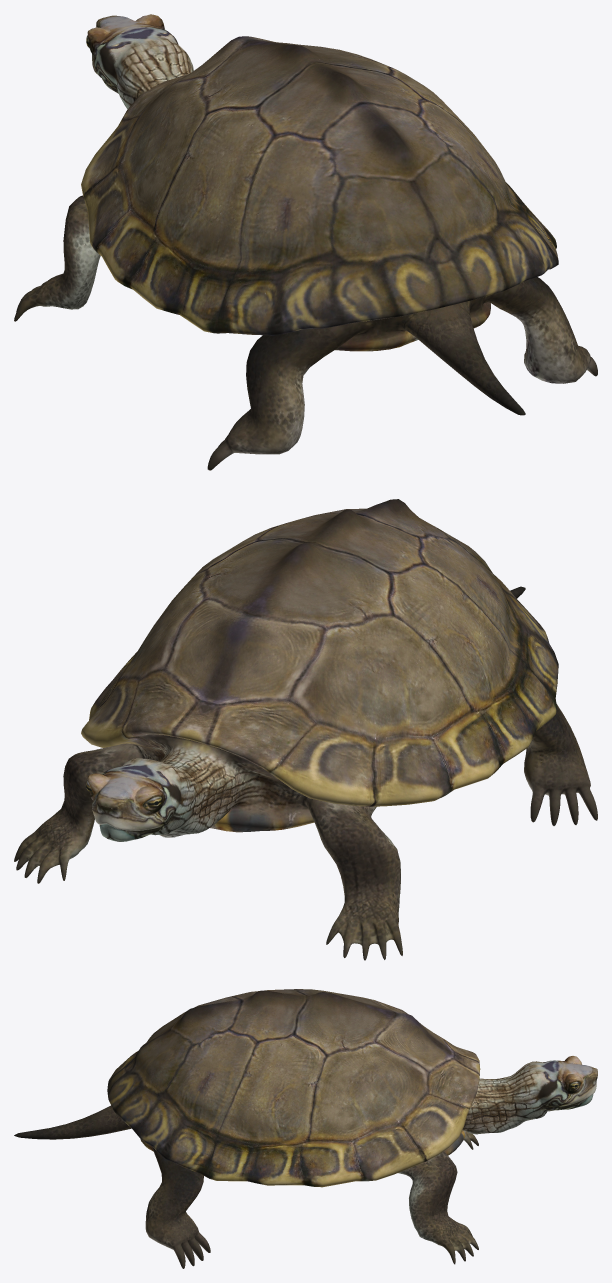
The model's file is siege_turtle.obj.
3 views of the same model, one above another, from view 1: azimuth 30°, elevation 25°; view 2: azimuth 150°, elevation 25°; view 3: azimuth 270°, elevation 25° (orthographic). The views are drawn at different scales.
Visible parts, largest first — view 1: siege_turtle, siege_turtle.005, siege_turtle.004, siege_turtle.002; view 2: siege_turtle, siege_turtle.002, siege_turtle.003, siege_turtle.005; view 3: siege_turtle, siege_turtle.004, siege_turtle.003.
Boxes of the visible parts, <box> form: siege_turtle: <box>81,14,558,415</box>; siege_turtle.005: <box>207,328,340,470</box>; siege_turtle.004: <box>500,277,597,383</box>; siege_turtle.002: <box>14,195,100,321</box>; siege_turtle: <box>81,499,558,841</box>; siege_turtle.002: <box>308,799,402,960</box>; siege_turtle.003: <box>14,745,134,883</box>; siege_turtle.005: <box>524,704,597,825</box>; siege_turtle: <box>14,989,597,1187</box>; siege_turtle.004: <box>145,1146,210,1268</box>; siege_turtle.003: <box>399,1151,478,1264</box>.
Size of the model in its own units: 0.5378 by 0.4047 by 1.
1 material, 1 textured.
